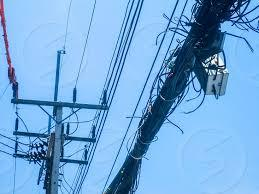wires: (100, 0, 246, 193)
